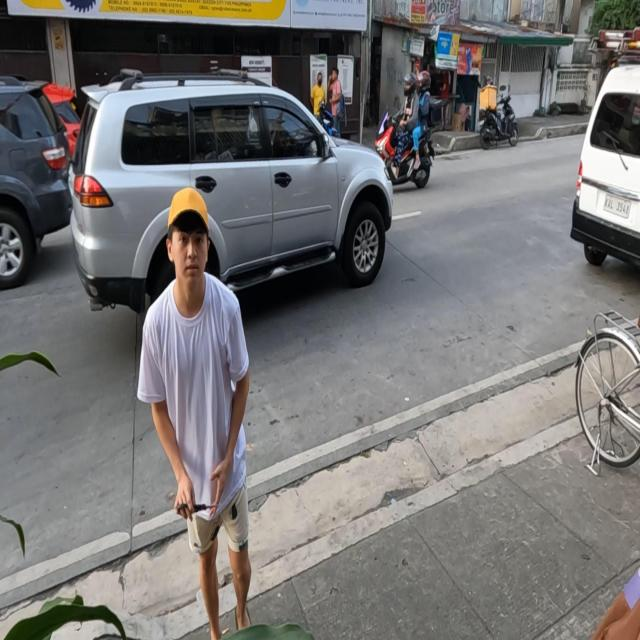scissor: (176, 504, 218, 518)
